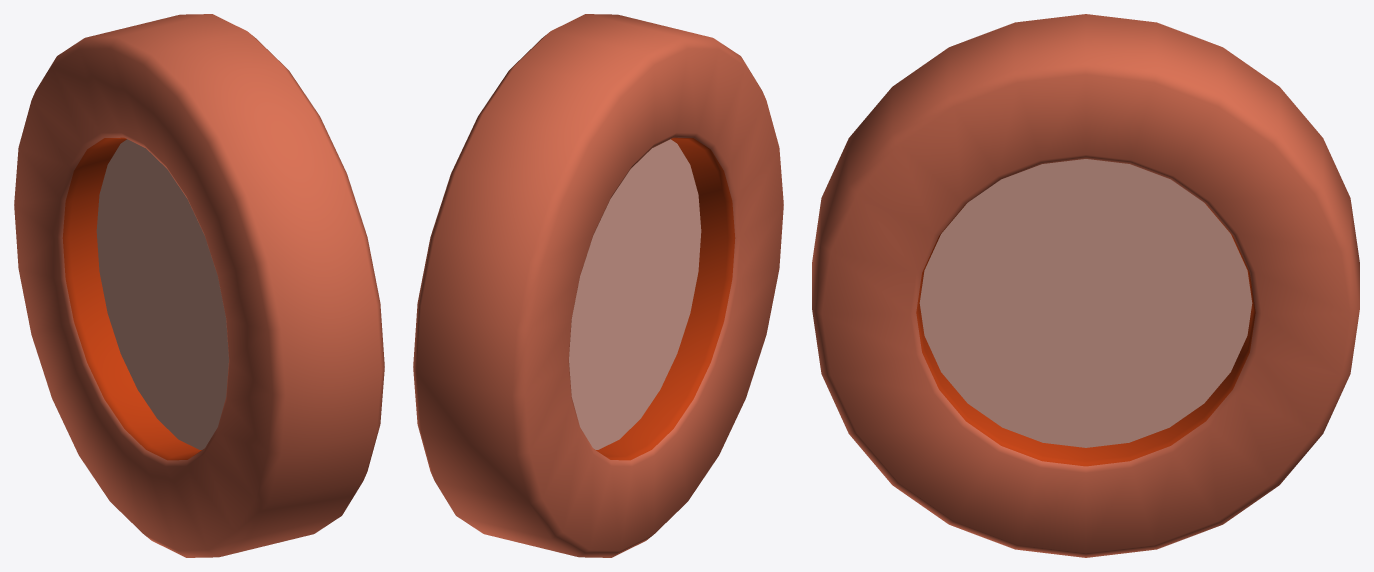
The model's file is Coin_V2_02.fbx.
The picture shows the model from 3 angles, left to right: view 1: azimuth 30°, elevation 25°; view 2: azimuth 150°, elevation 25°; view 3: azimuth 270°, elevation 25°; orthographic projection. The views are drawn at different scales.
Visible parts, largest first — view 1: Coin_V2_02; view 2: Coin_V2_02; view 3: Coin_V2_02.
Part boxes in pixels (x1,y1,x2,y2): Coin_V2_02: [14, 14, 384, 557]; Coin_V2_02: [413, 14, 783, 557]; Coin_V2_02: [812, 14, 1359, 557].
Size of the model in its own units: 10.36 by 43 by 43.
